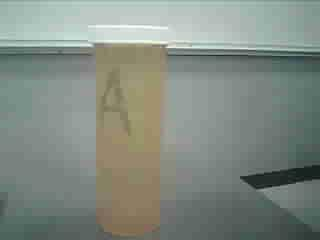Bottle A: (89, 25, 170, 236)
